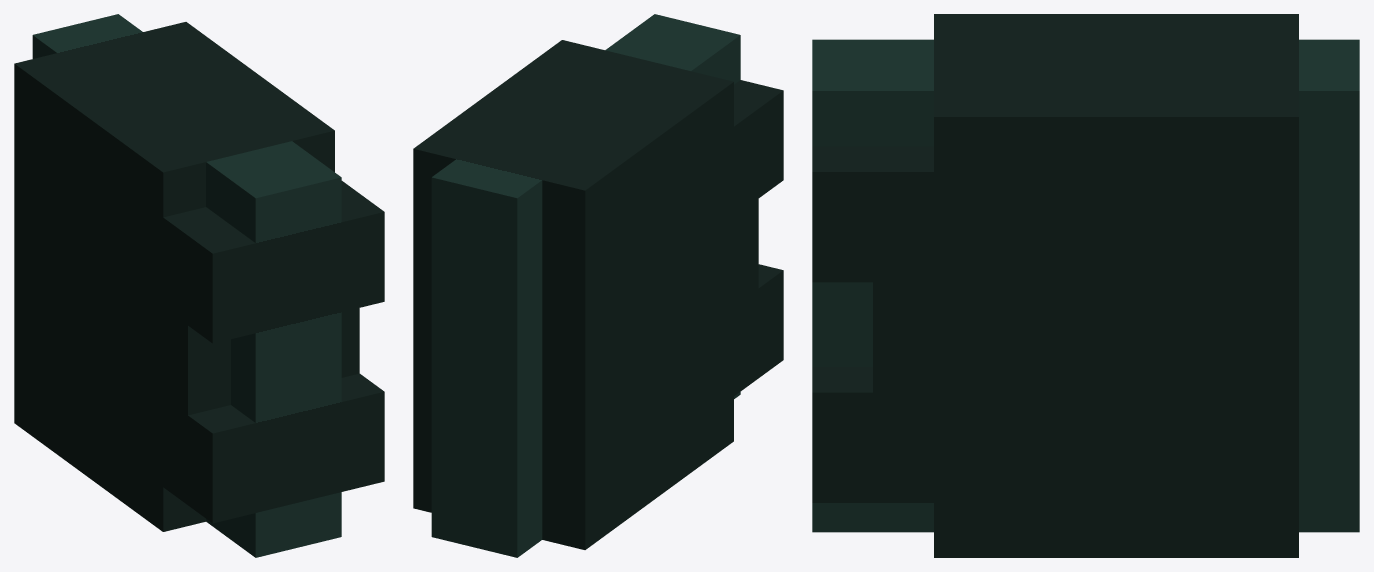
Rendered from Body2.fbx.
3 views of the same model, side by side, from view 1: azimuth 30°, elevation 25°; view 2: azimuth 150°, elevation 25°; view 3: azimuth 270°, elevation 25° (orthographic). The views are drawn at different scales.
Parts seen in each view (by area): view 1: Untitled.002; view 2: Untitled.002; view 3: Untitled.002.
Part boxes in pixels (<box>): Untitled.002: <box>14,14,384,557</box>; Untitled.002: <box>413,14,783,557</box>; Untitled.002: <box>812,14,1359,557</box>.
Size of the model in its own units: 40 by 80 by 90.
